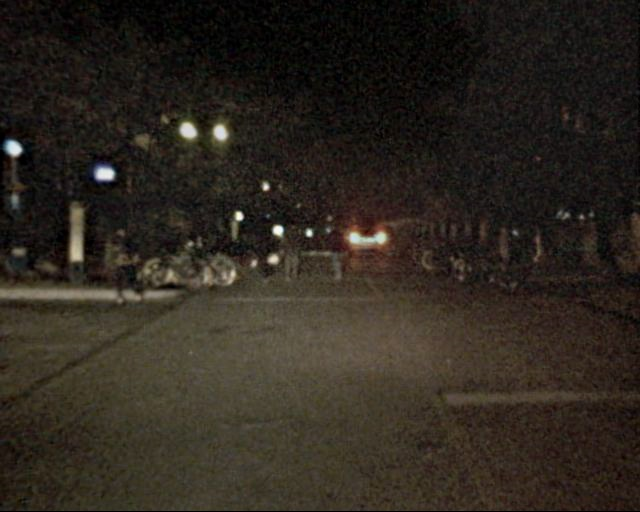person: (109, 220, 146, 306), (323, 223, 349, 284), (248, 217, 273, 280), (280, 225, 304, 289)
